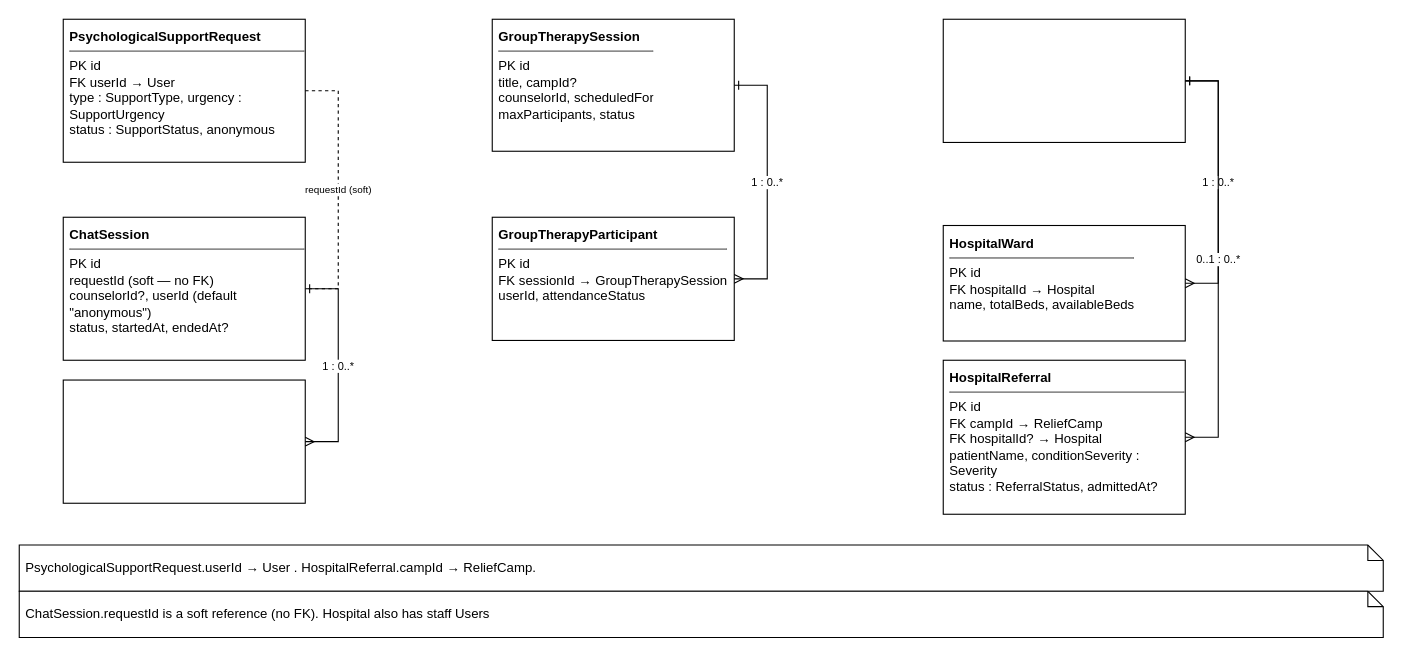
This 1403x657 diagram has some shape labels left out. Each missing label, with the box of its shape:
ChatMessage PK id FK sessionId → ChatSession senderId, content, createdAt: (62, 379, 305, 503)
Hospital PK id name, email (U) totalBeds, availableBeds, isActive: (942, 18, 1185, 142)
